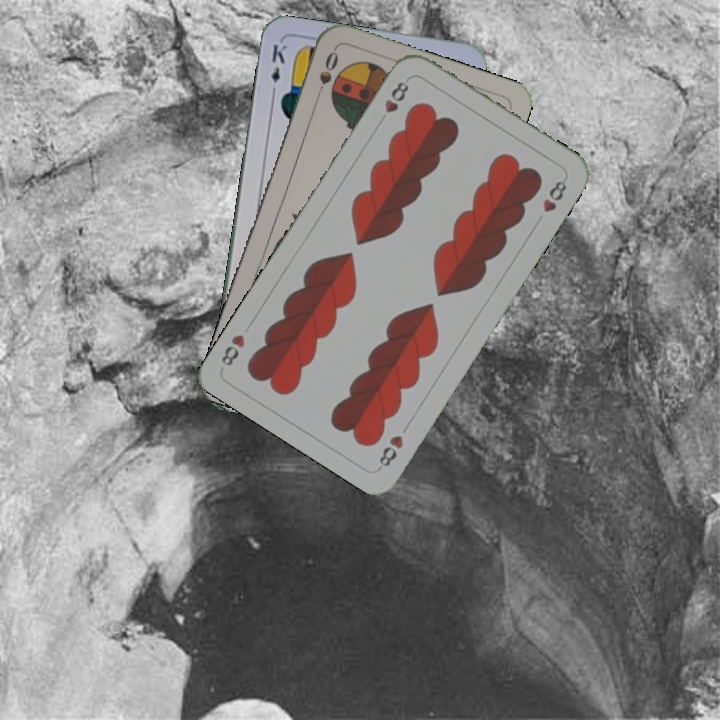EK: (267, 40, 289, 99)
H8: (374, 77, 412, 127), (375, 431, 406, 472)
SO: (311, 46, 341, 103)
